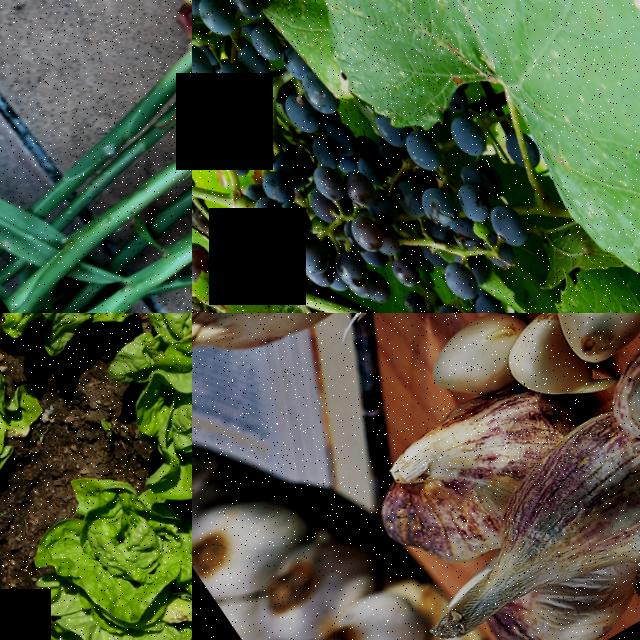garlic: (479, 313, 594, 412), (576, 313, 640, 462), (523, 313, 640, 368)
grapes: (266, 84, 539, 313)
lettuce: (0, 429, 192, 640), (91, 313, 192, 486)
